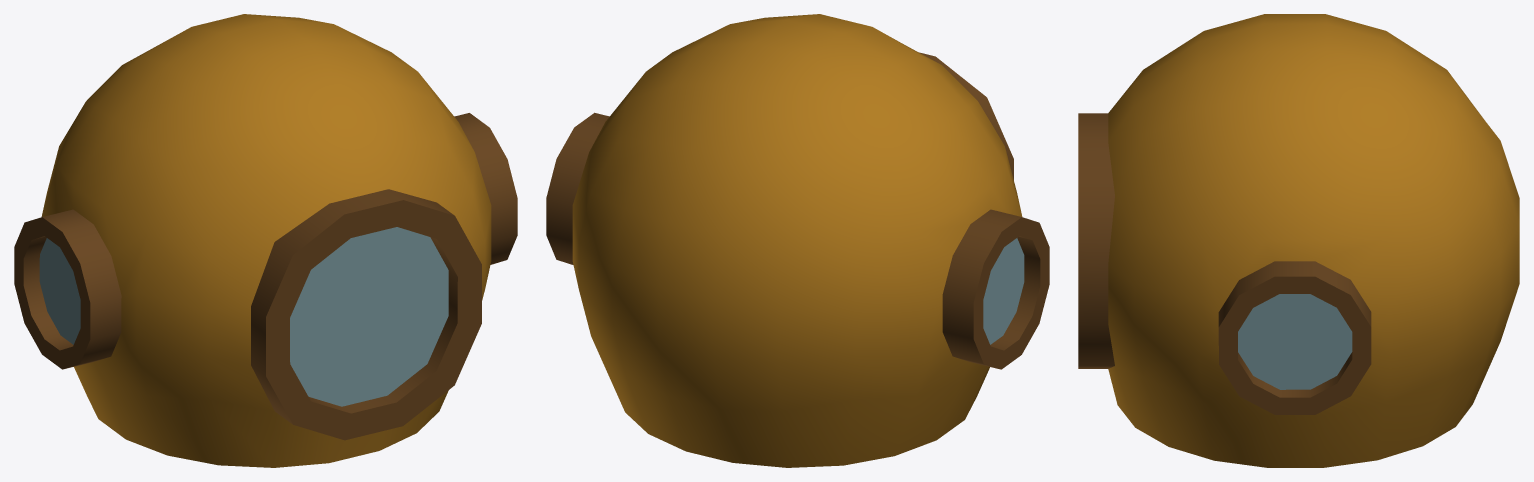
Rendered from m_DivingHelmet01.fbx.
3 views of the same model, side by side, from view 1: azimuth 30°, elevation 25°; view 2: azimuth 150°, elevation 25°; view 3: azimuth 270°, elevation 25° (orthographic).
Parts seen in each view (by area): view 1: m_DivingHelmet01; view 2: m_DivingHelmet01; view 3: m_DivingHelmet01.
Boxes of the visible parts, x1=… form: m_DivingHelmet01: x1=14, y1=14, x2=517, y2=467; m_DivingHelmet01: x1=546, y1=14, x2=1049, y2=467; m_DivingHelmet01: x1=1078, y1=14, x2=1519, y2=467.
Size of the model in its own units: 7.92 by 6.27 by 7.05.
